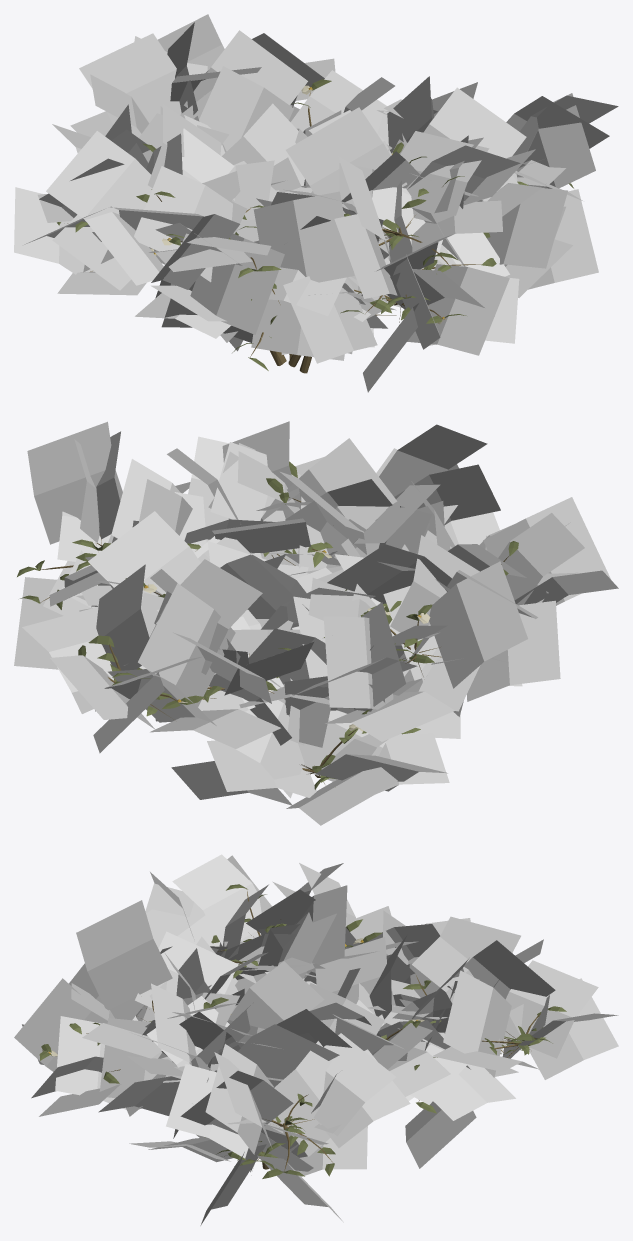
Rendered from Ciste_Etale_LOD1.fbx.
The picture shows the model from 3 angles, top to bottom: view 1: azimuth 30°, elevation 25°; view 2: azimuth 150°, elevation 25°; view 3: azimuth 270°, elevation 25°; orthographic projection. The views are drawn at different scales.
Visible parts, largest first — view 1: Ciste_Etale_LOD1; view 2: Ciste_Etale_LOD1; view 3: Ciste_Etale_LOD1.
Part boxes in pixels (x1,y1,x2,y2): Ciste_Etale_LOD1: (14, 14, 618, 392); Ciste_Etale_LOD1: (14, 421, 618, 825); Ciste_Etale_LOD1: (14, 854, 618, 1225).
Size of the model in its own units: 207 by 99.72 by 215.
